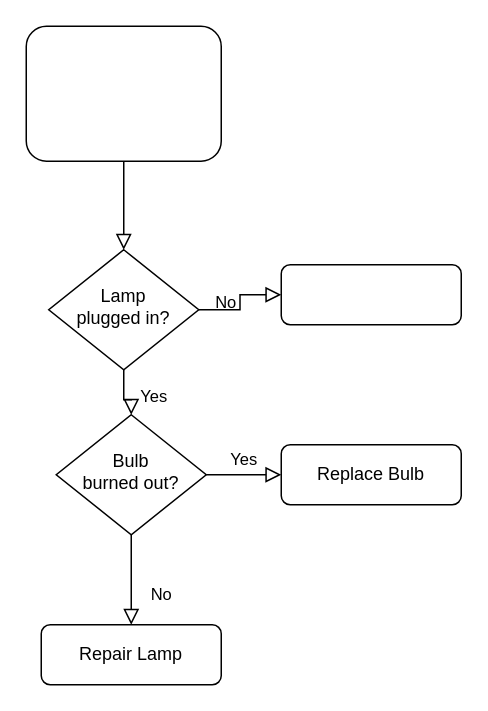
Image size: 488x711. Some labels were removed from this diagram. The shapes that lost their labels are listed below. From the top down, each one's box as (x1, y1, x2, y2) in pixels, then its label:
(25, 25, 221, 161): Raspberry Pi 5 ROS 2 NavegaciónVisión Control
(280, 263, 461, 325): Plug in lamp
